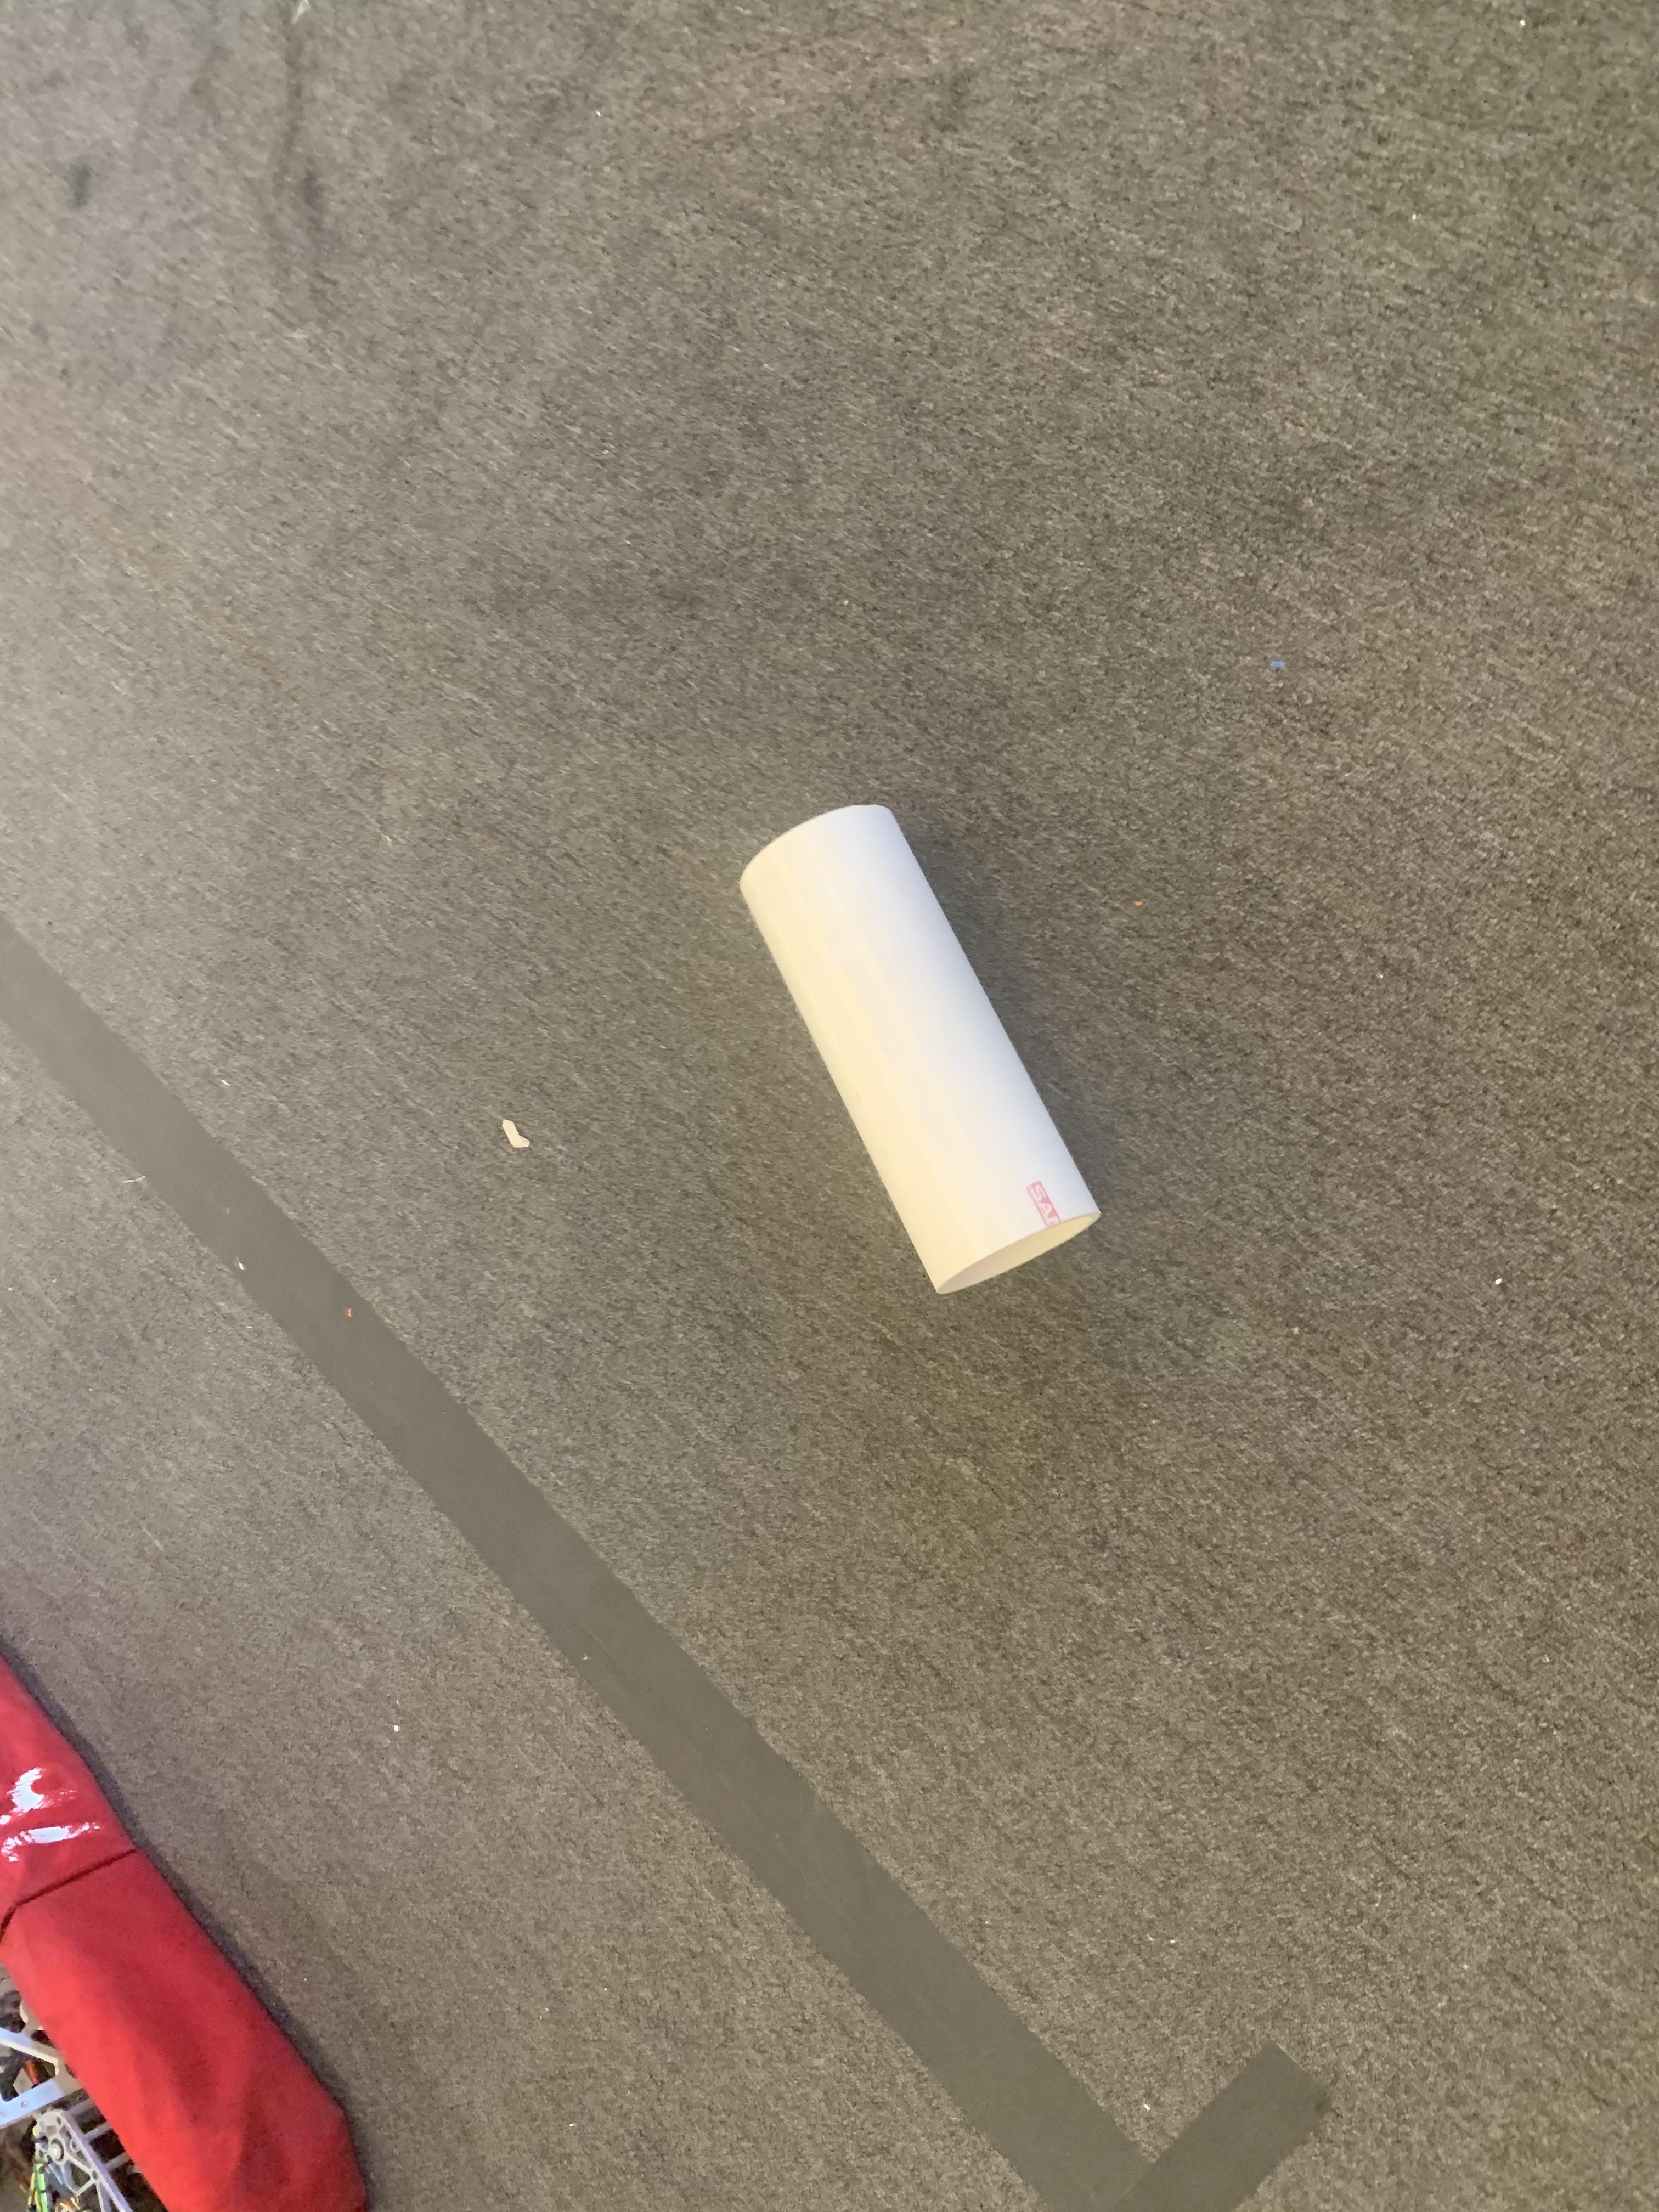coral: (734, 798, 1103, 1296)
